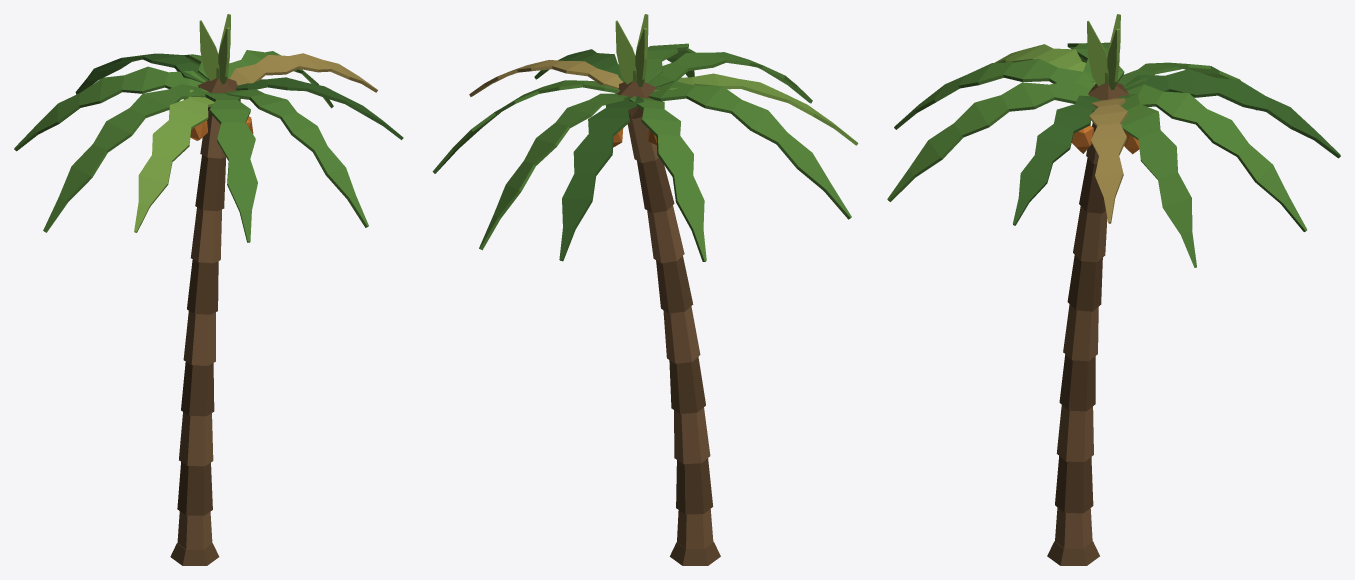
The model's file is desert_palm_a.glb.
3 views of the same model, side by side, from view 1: azimuth 30°, elevation 25°; view 2: azimuth 150°, elevation 25°; view 3: azimuth 270°, elevation 25° (orthographic). The views are drawn at different scales.
Parts seen in each view (by area): view 1: desert_palm_a; view 2: desert_palm_a; view 3: desert_palm_a.
Part boxes in pixels (x1,y1,x2,y2): desert_palm_a: (14, 14, 403, 565); desert_palm_a: (432, 14, 858, 565); desert_palm_a: (887, 14, 1340, 565).
Size of the model in its own units: 6.41 by 9.01 by 6.66.
